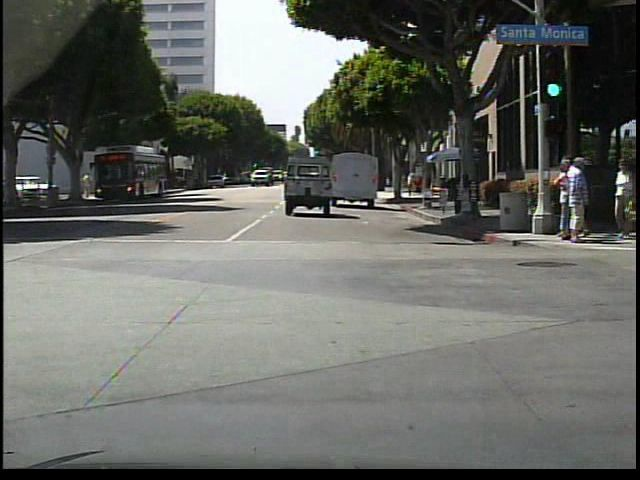person: (561, 154, 593, 248), (561, 152, 586, 245), (612, 158, 636, 239), (553, 158, 573, 242), (83, 172, 93, 201), (407, 171, 416, 195), (73, 177, 82, 201), (402, 170, 407, 197)
